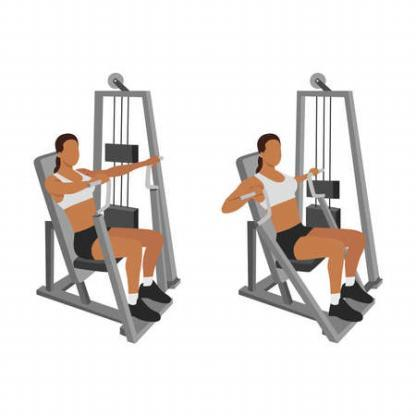Chest Press machine: (222, 66, 385, 351), (29, 68, 184, 352)
